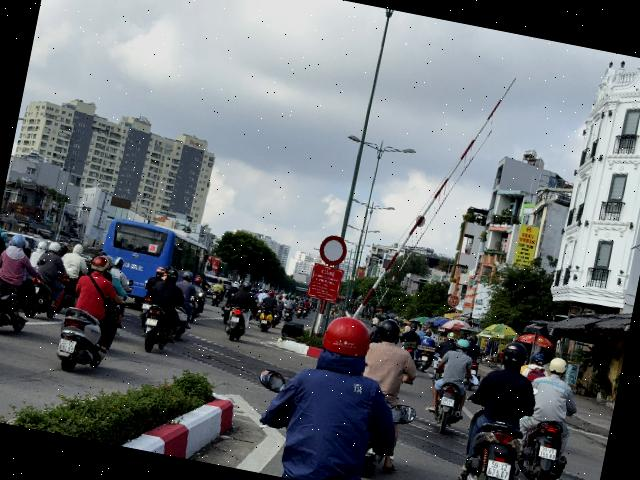duong-cam: (316, 233, 348, 267)
